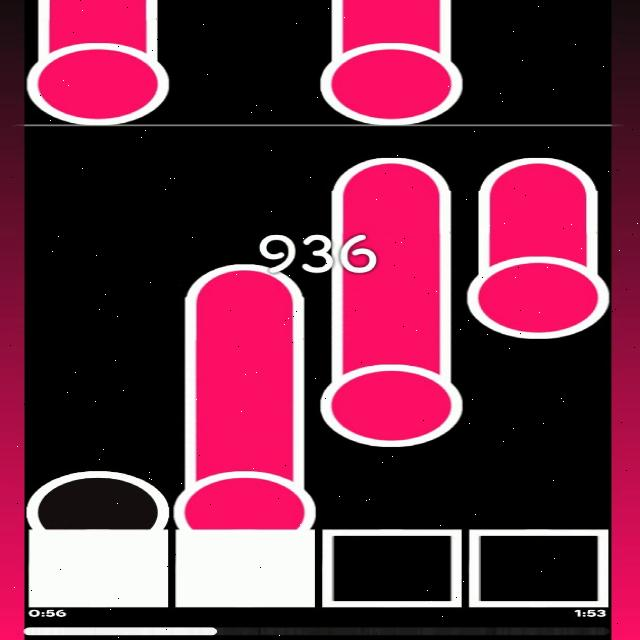end_hold: (467, 145, 603, 200), (323, 144, 462, 197), (179, 254, 313, 306)
note: (25, 468, 173, 529)
start_hold: (464, 243, 614, 340), (26, 27, 169, 125), (319, 351, 461, 448), (322, 30, 464, 124), (174, 456, 318, 532)
